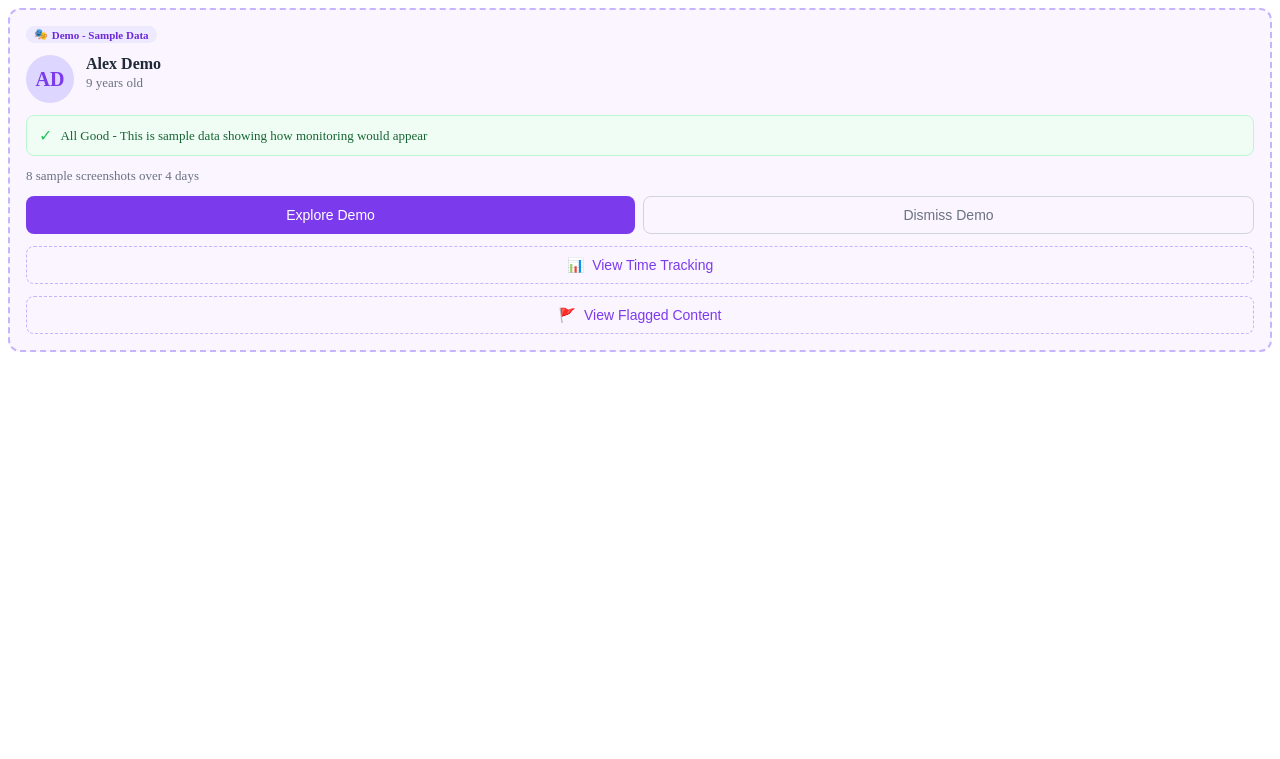
DemoChildCard - Gallery Integration (Story 8.5.2) › Gallery Expansion › should change button text to Hide Gallery when expanded
Click the button with test id "toggle-gallery-button" at (330, 215), box [26,196,635,234]
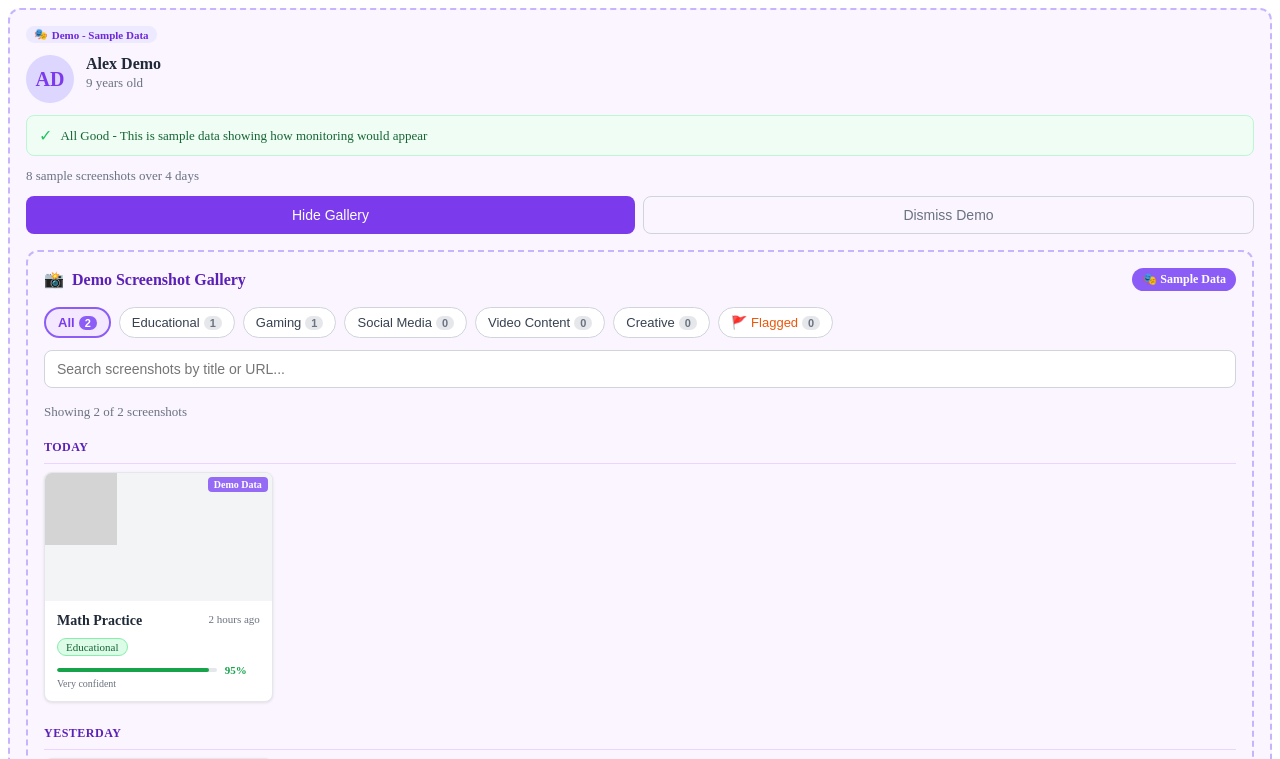
Check: the button with test id "toggle-gallery-button" reads "Hide Gallery", box [26,196,635,234]
